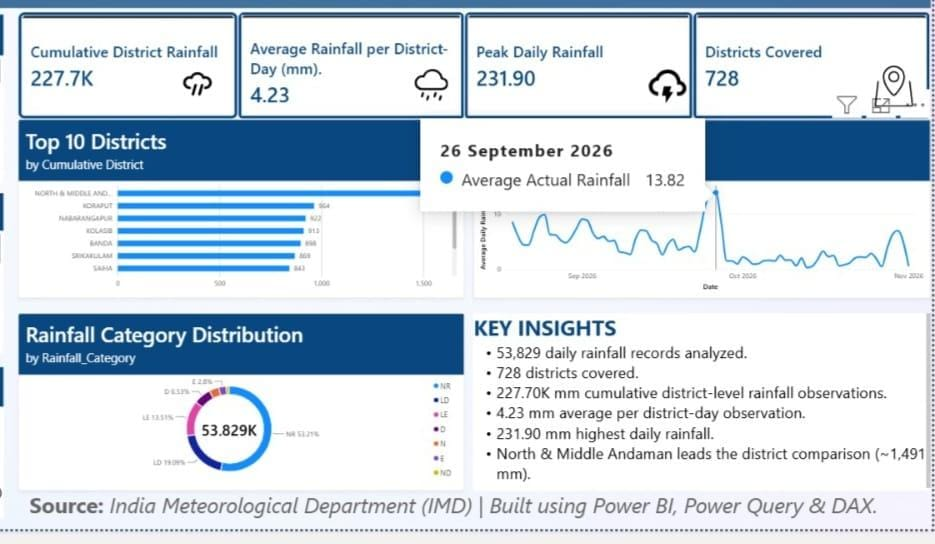

The page's visual inventory and layout, read from the dashboard file:
{"tool":"powerbi","page":{"name":"Page 1","canvas":[1920,1080],"ordinal":0},"visuals":[{"type":"cardVisual","title":"Cumulative District Rainfall","fields":{"Data":["RainfallData.Total Actual Rainfall"]},"box":[325.3,176.9,384.3,187.8],"z":0},{"type":"cardVisual","title":"Average Daily Rainfall","fields":{"Data":["RainfallData.Average Actual Rainfall"]},"box":[710,177.5,395.2,187.8],"z":1000},{"type":"cardVisual","fields":{"Data":["RainfallData.Highest Daily Rainfall"]},"box":[1104.8,176.9,399.6,187.8],"z":2000},{"type":"cardVisual","fields":{"Data":["RainfallData.District Count"]},"box":[1504.3,176.9,414.8,187.8],"z":3000},{"type":"clusteredBarChart","title":"Top 10 Districts","fields":{"Category":["RainfallData.District"],"Y":["RainfallData.Total Actual Rainfall"]},"box":[325.3,364.6,779.5,312.2],"z":4000},{"type":"lineChart","title":"DAILY RAINFALL TREND","fields":{"Category":["RainfallData.Date"],"Y":["RainfallData.Average Actual Rainfall"]},"box":[1120.1,364.6,800,312.5],"z":5000},{"type":"donutChart","title":"Rainfall Category Distribution","fields":{"Category":["RainfallData.Rainfall_Category"],"Y":["CountNonNull(RainfallData.Rainfall_Category)"]},"box":[325.3,703,779.5,310],"z":6000},{"type":"slicer","title":"STATE","fields":{"Values":["RainfallData.State"]},"box":[0,181.2,299.1,294.8],"z":7000},{"type":"slicer","title":"DISTRICT","fields":{"Values":["RainfallData.District"]},"box":[0,493.4,299.1,279.5],"z":8000},{"type":"slicer","title":"DATE","fields":{"Values":["RainfallData.Date"]},"box":[0,796.9,299.1,264.2],"z":9000},{"type":"textbox","box":[0,0,1919.2,170.3],"z":10000},{"type":"textbox","box":[1120.1,703,799.1,310],"z":11000},{"type":"textbox","box":[250,1012.5,1670,67.5],"z":12000},{"type":"image","box":[489.1,275.1,299.1,54.6],"z":20000},{"type":"image","box":[1004.3,272.9,85.2,59],"z":20001},{"type":"image","box":[1417,264.2,85.2,78.6],"z":20002},{"type":"image","box":[1790.3,270.7,128.8,72.1],"z":20003}]}

Visuals, with their boxes on the page's 1920x1080 design canvas (x1, y1, x2, y2). These are canvas units, not pixel positions in the 935x544 screenshot, which may show the page scaled, cropped or inside an application window:
"Cumulative District Rainfall" cardVisual: BBox(325, 177, 710, 365)
"Average Daily Rainfall" cardVisual: BBox(710, 178, 1105, 365)
cardVisual - RainfallData.Highest Daily Rainfall: BBox(1105, 177, 1504, 365)
cardVisual - RainfallData.District Count: BBox(1504, 177, 1919, 365)
"Top 10 Districts" clusteredBarChart: BBox(325, 365, 1105, 677)
"DAILY RAINFALL TREND" lineChart: BBox(1120, 365, 1920, 677)
"Rainfall Category Distribution" donutChart: BBox(325, 703, 1105, 1013)
"STATE" slicer: BBox(0, 181, 299, 476)
"DISTRICT" slicer: BBox(0, 493, 299, 773)
"DATE" slicer: BBox(0, 797, 299, 1061)
textbox: BBox(0, 0, 1919, 170)
textbox: BBox(1120, 703, 1919, 1013)
textbox: BBox(250, 1012, 1920, 1080)
image: BBox(489, 275, 788, 330)
image: BBox(1004, 273, 1090, 332)
image: BBox(1417, 264, 1502, 343)
image: BBox(1790, 271, 1919, 343)
